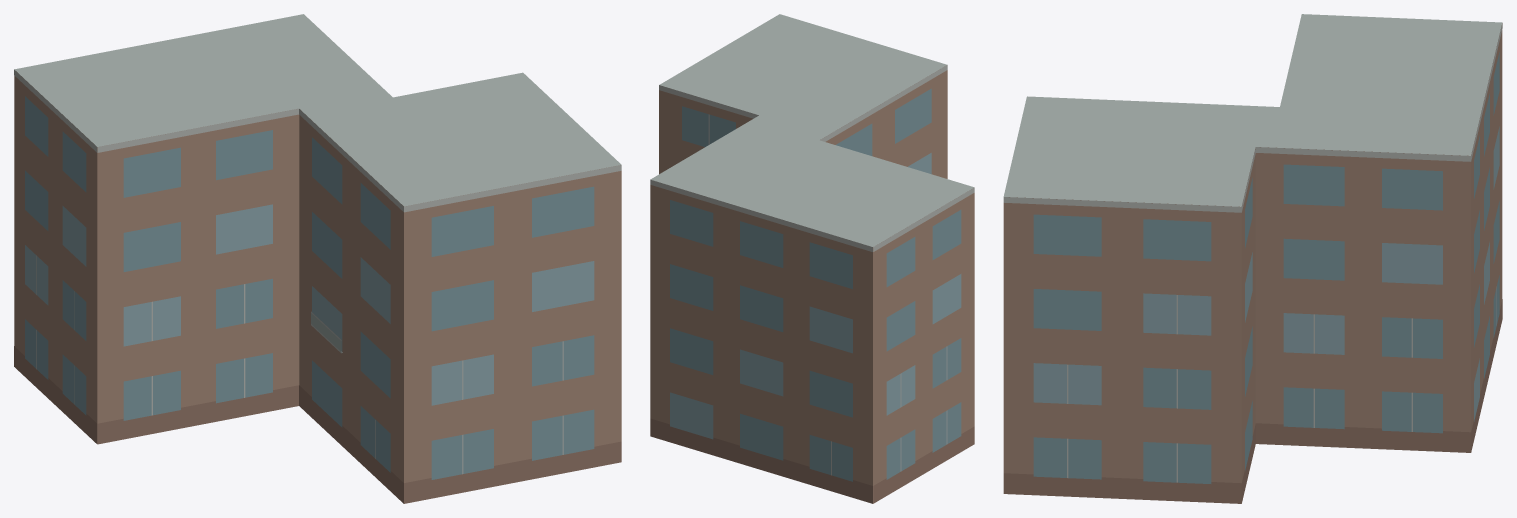
Rendered from residential-f58b19e2-e108-4b9a-90ef-5da0e349e005.glb.
The picture shows the model from 3 angles, left to right: view 1: azimuth 30°, elevation 25°; view 2: azimuth 150°, elevation 25°; view 3: azimuth 270°, elevation 25°; orthographic projection. The views are drawn at different scales.
Visible parts, largest first — view 1: residential-f58b19e2-e108-4b9a-90ef-5da0e349e005.tmp; view 2: residential-f58b19e2-e108-4b9a-90ef-5da0e349e005.tmp; view 3: residential-f58b19e2-e108-4b9a-90ef-5da0e349e005.tmp.
Part boxes in pixels (x1,y1,x2,y2): residential-f58b19e2-e108-4b9a-90ef-5da0e349e005.tmp: (14,14,621,503); residential-f58b19e2-e108-4b9a-90ef-5da0e349e005.tmp: (650,14,974,503); residential-f58b19e2-e108-4b9a-90ef-5da0e349e005.tmp: (1003,14,1502,503).
Size of the model in its own units: 17 by 12.2 by 18.58.
